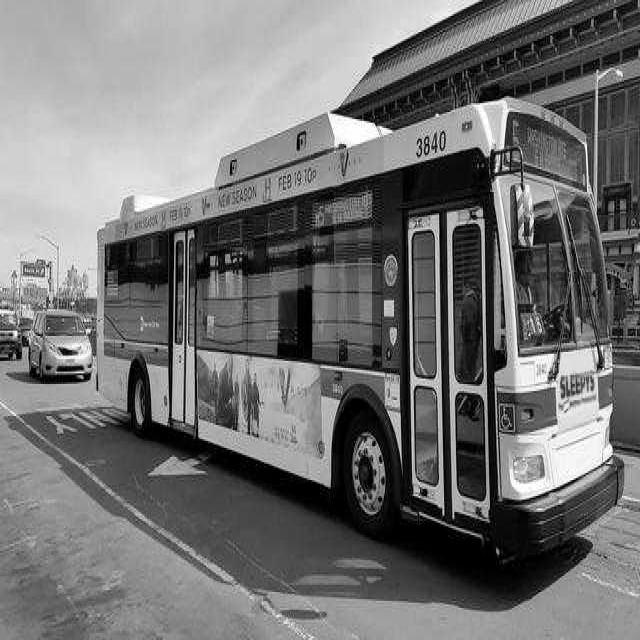Bus: (98, 98, 622, 560)
Car: (29, 311, 91, 380)
